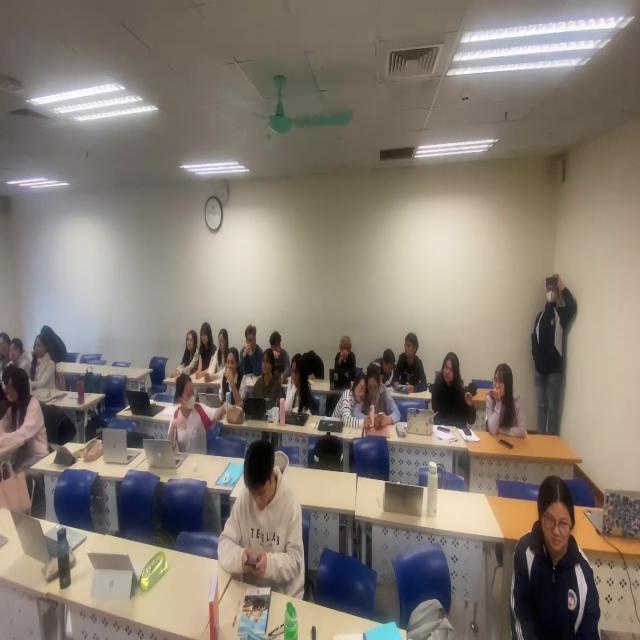raise_hand: (433, 352, 479, 431), (219, 349, 249, 412)
raise_head: (510, 474, 604, 640), (251, 347, 287, 410), (195, 323, 220, 383), (205, 327, 231, 384), (238, 326, 266, 377), (173, 329, 201, 379), (266, 332, 292, 383), (11, 336, 35, 382), (2, 330, 13, 381)
sleep: (299, 350, 327, 384)
stand: (531, 273, 579, 438)
using_phone: (217, 440, 307, 605)
